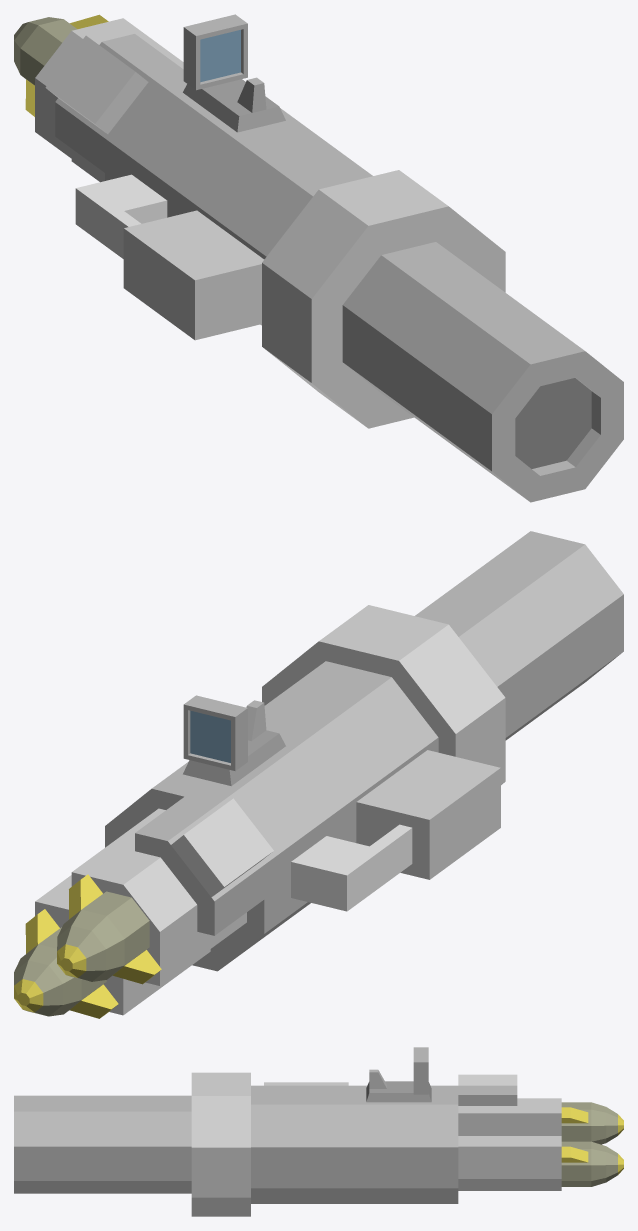
Rendered from GEAR_ROCKET.fbx.
The picture shows the model from 3 angles, top to bottom: view 1: azimuth 30°, elevation 25°; view 2: azimuth 150°, elevation 25°; view 3: azimuth 270°, elevation 25°; orthographic projection. The views are drawn at different scales.
Visible parts, largest first — view 1: rocketlauncherModernRotating; view 2: rocketlauncherModernRotating; view 3: rocketlauncherModernRotating.
Part boxes in pixels (box(x1,y1,x2,y2)): rocketlauncherModernRotating: box(14, 14, 623, 502); rocketlauncherModernRotating: box(14, 531, 623, 1018); rocketlauncherModernRotating: box(14, 1047, 623, 1216).
Bounding box in the file's own units: 1050 × 1014 × 3733.
